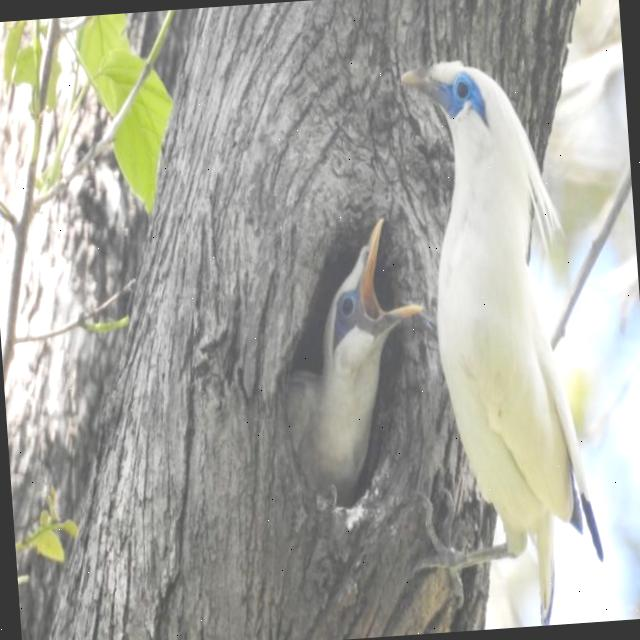Jalak Bali: (390, 29, 638, 633), (259, 201, 439, 512)
